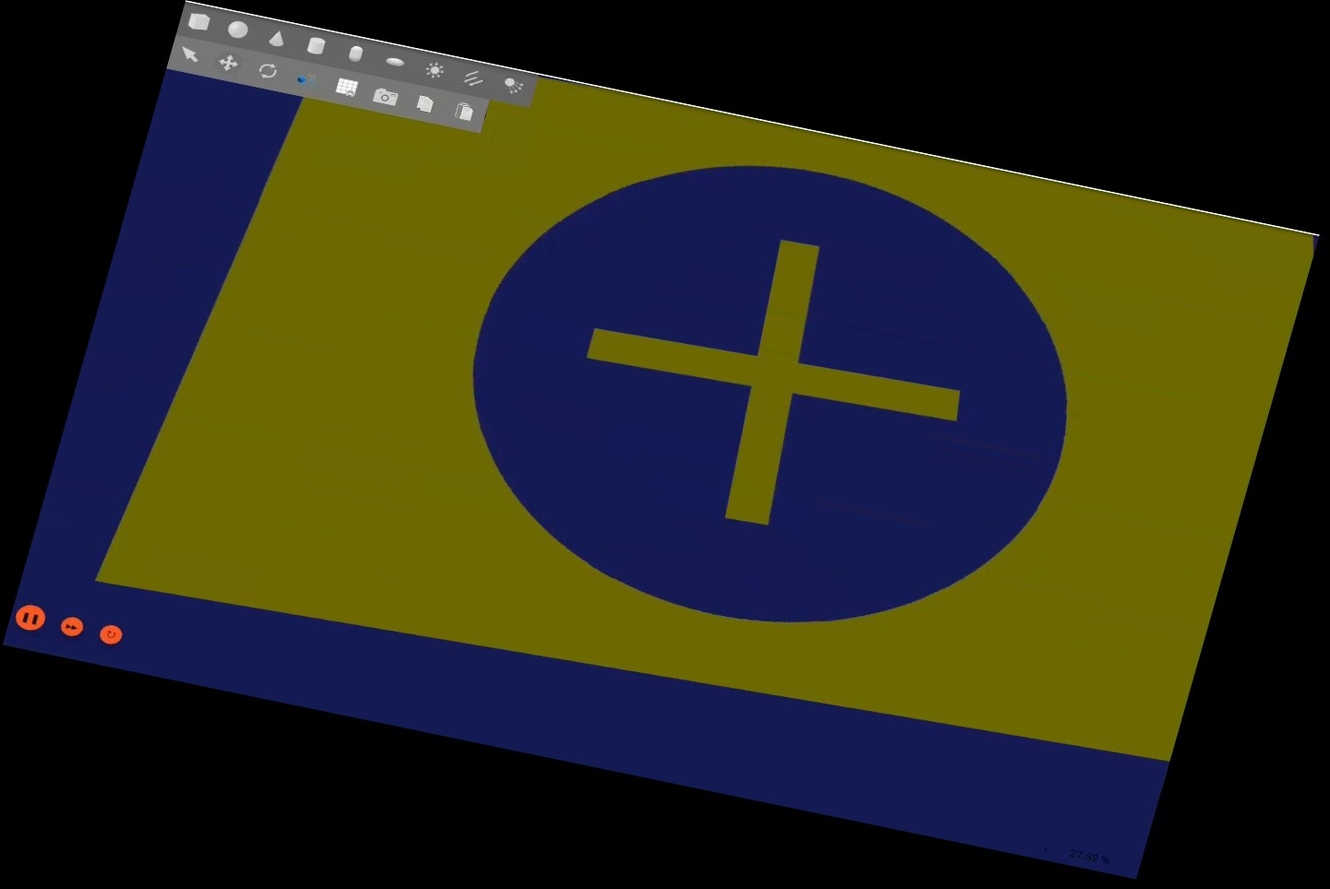large_base: (2, 0, 1323, 882)
